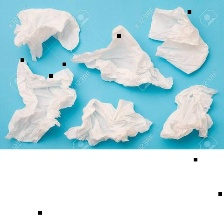tissue: (65, 20, 178, 94), (1, 57, 81, 146), (143, 1, 212, 78), (59, 94, 157, 148), (7, 3, 85, 63), (154, 79, 222, 145)
